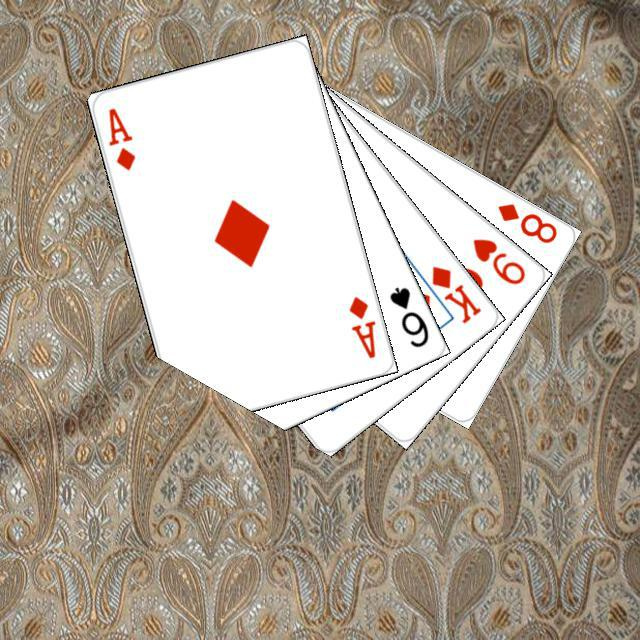6s: (384, 282, 431, 350)
8d: (492, 198, 559, 246)
9h: (467, 233, 527, 287)
Ad: (344, 291, 378, 361), (103, 103, 137, 172)
Kd: (426, 261, 483, 326)
